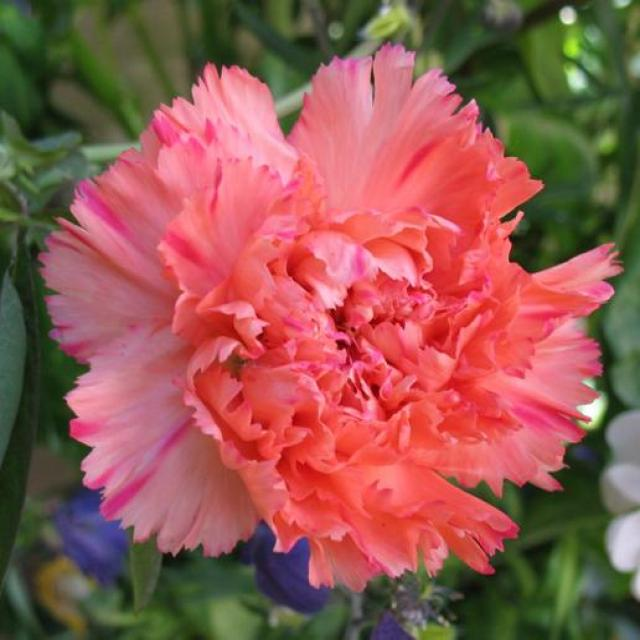carnation: (41, 45, 600, 588)
